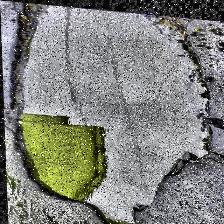pothole: (3, 0, 209, 224)
